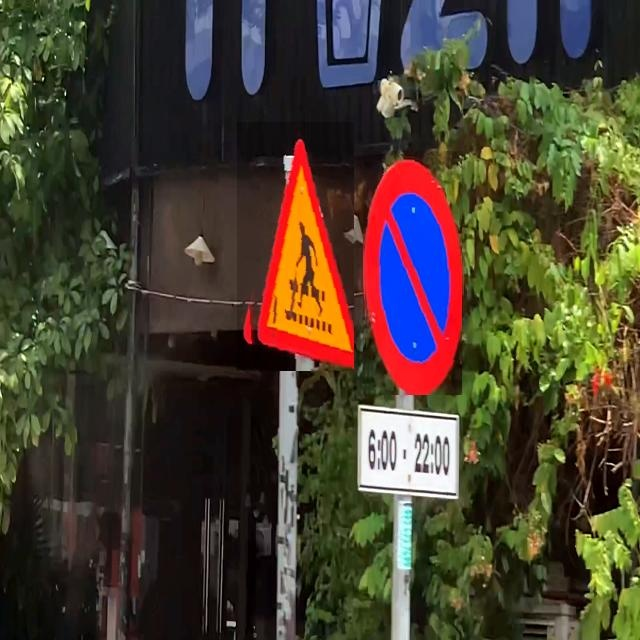bien_cam: (237, 122, 354, 371), (364, 151, 464, 395)
